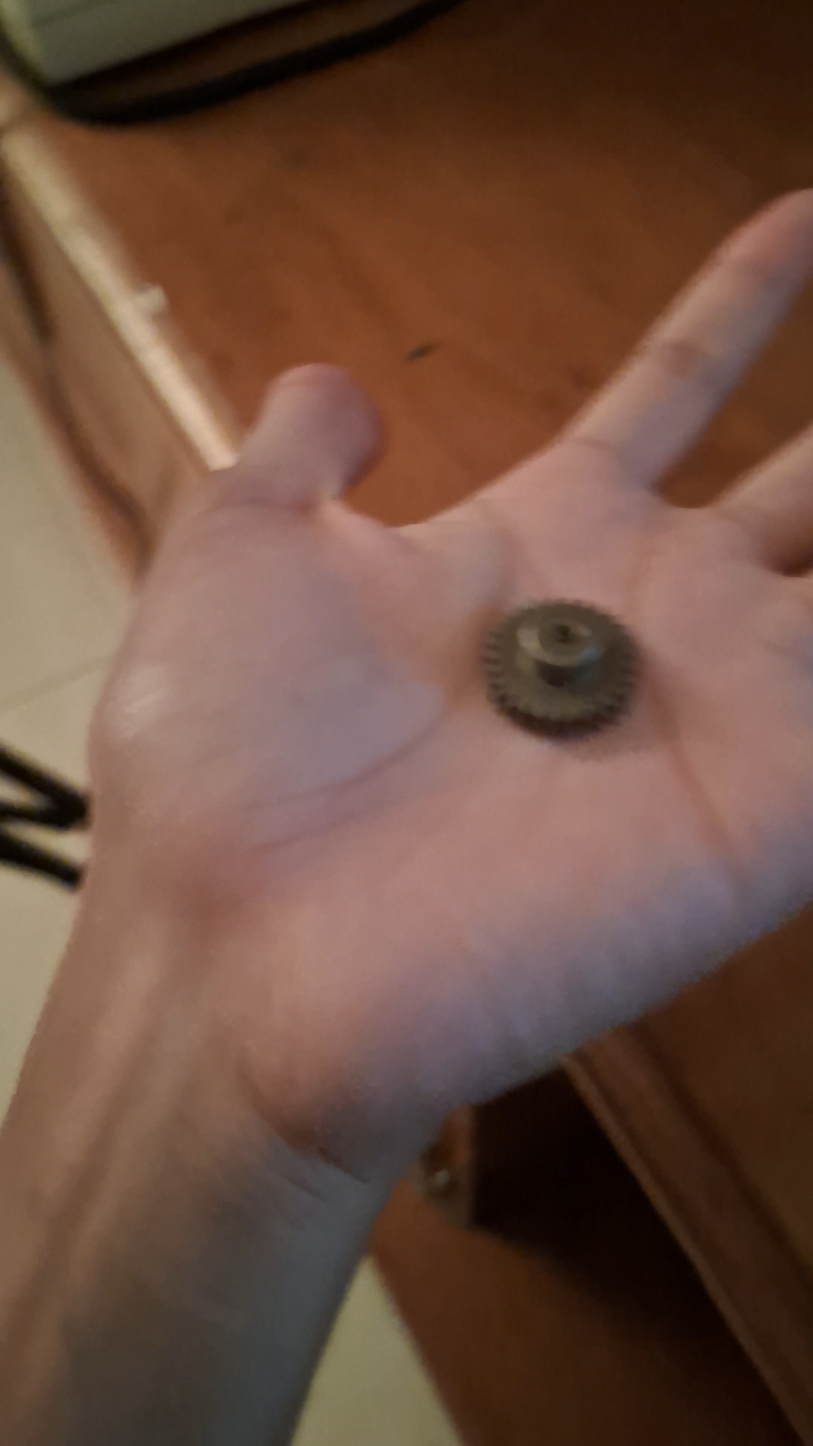spur gear: (483, 600, 638, 737)
